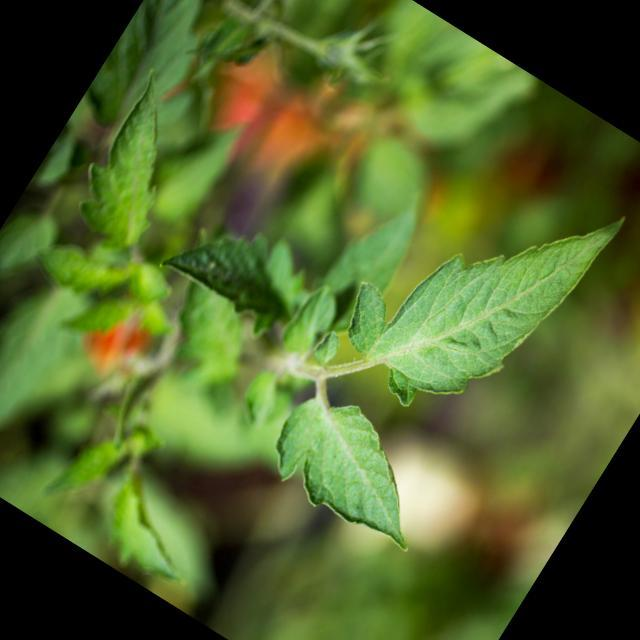Tomato healthy leaf: (319, 107, 633, 451), (231, 366, 478, 582)
